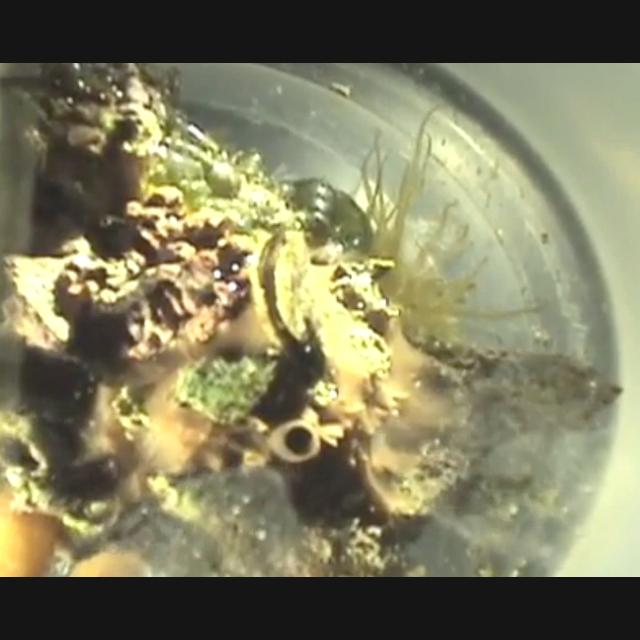Oyster-Open: (249, 230, 311, 354)
